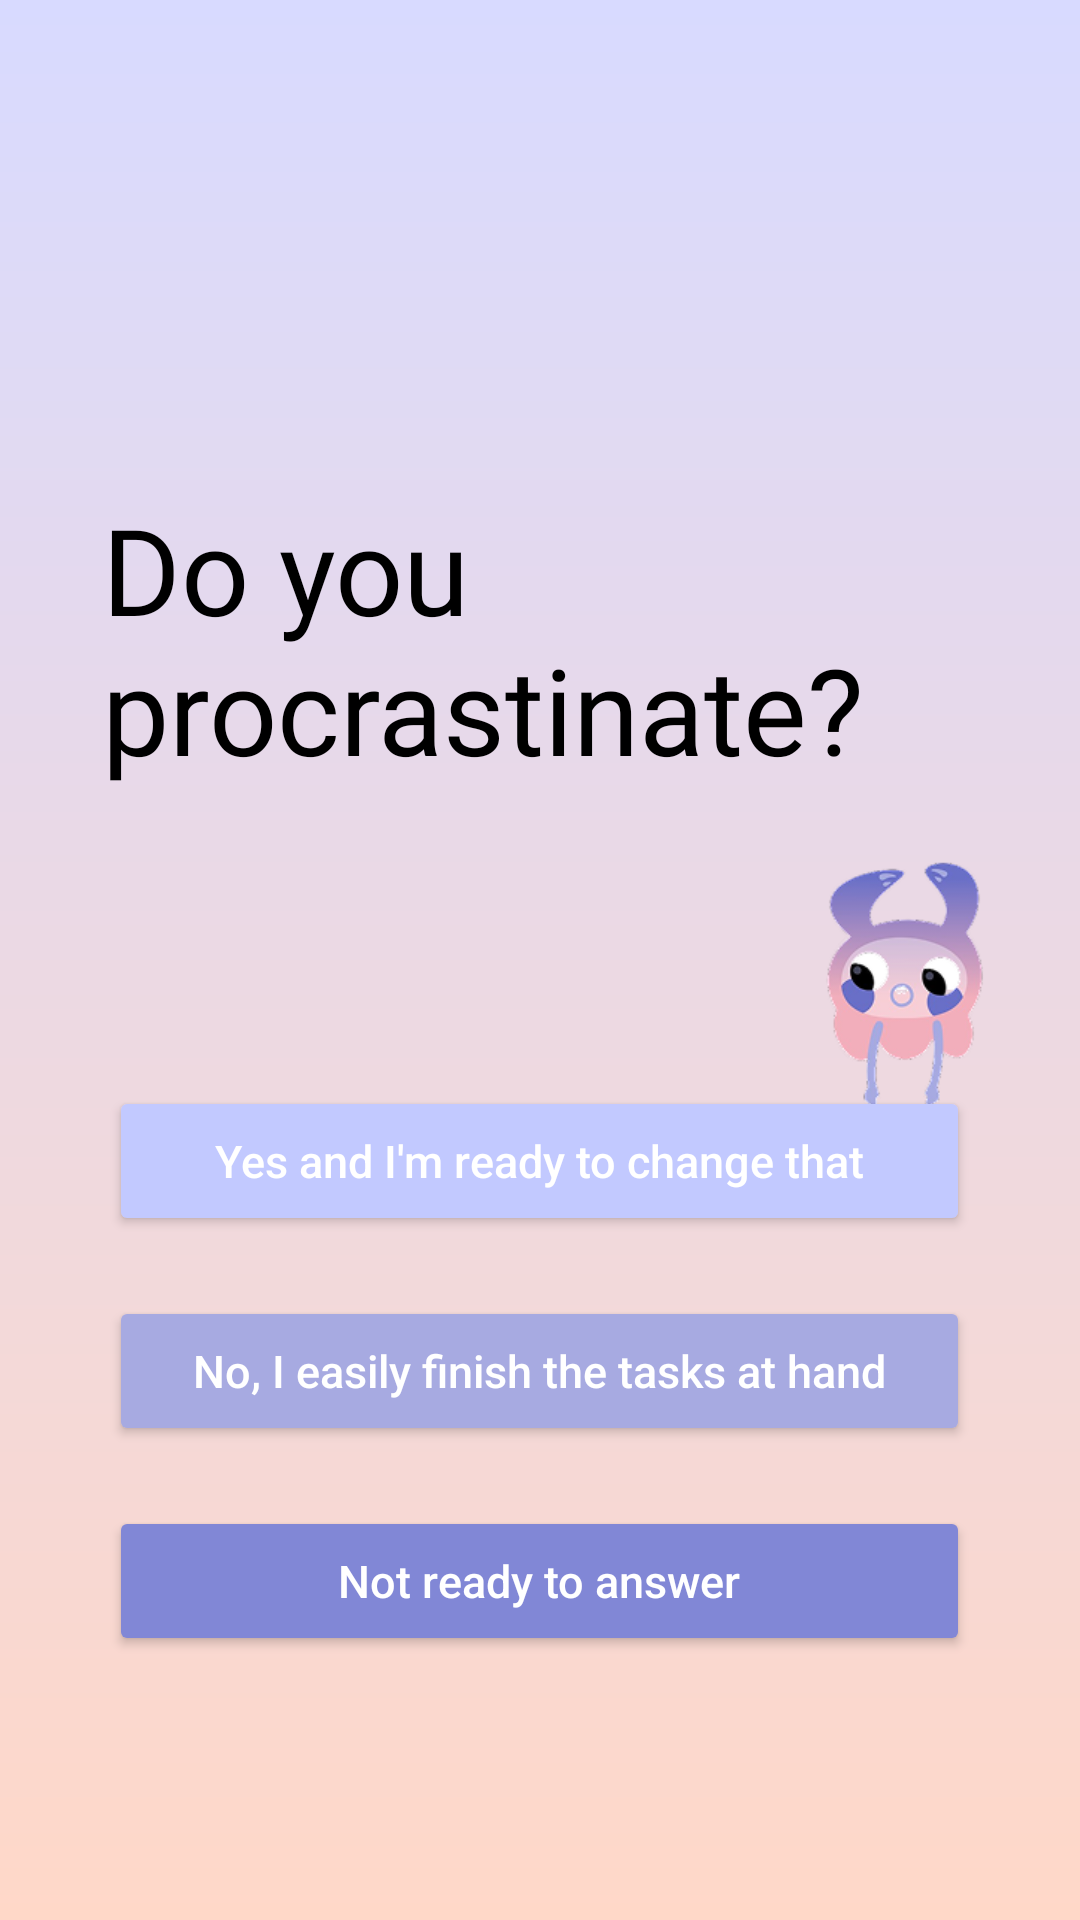

Icons on this 1080 × 1920 Android screen, each with the point to tap as (x,y):
mascot: (869,1038)
